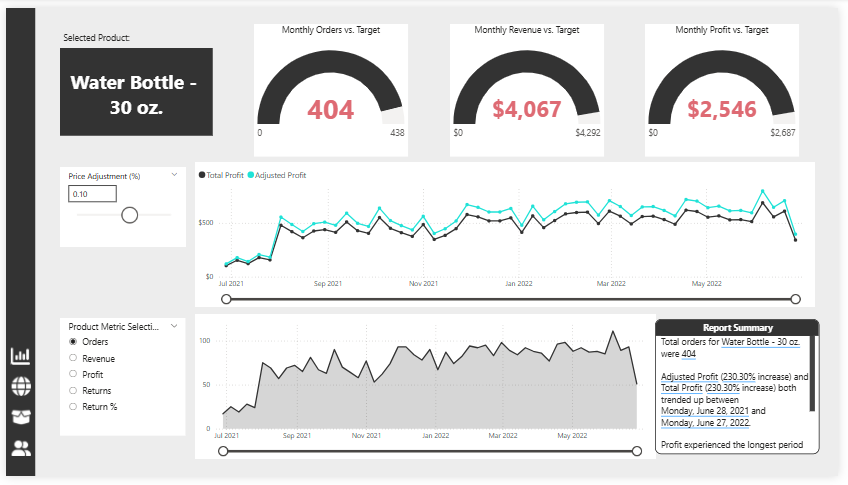

Layout of this report page (visuals, bound fields, positions):
{"tool":"powerbi","page":{"name":"Product Detail","canvas":[1280,720],"ordinal":2},"visuals":[{"type":"shape","box":[0,0,45,720],"z":0},{"type":"actionButton","box":[2.5,516.7,45.6,37.8],"z":0,"group":"g1"},{"type":"gauge","title":"Monthly Orders vs. Target","fields":{"Y":["Measure Table.Total Orders"],"MaxValue":["Measure Table.Order Target"]},"box":[382,25,236.6,204.2],"z":1000},{"type":"actionButton","box":[3.3,563.4,45.6,37.8],"z":1000,"group":"g1"},{"type":"gauge","title":"Monthly Revenue vs. Target","fields":{"Y":["Measure Table.Total Revenue"],"MaxValue":["Measure Table.Revenue Target"]},"box":[683.3,25,236.6,204.2],"z":2000},{"type":"actionButton","box":[3.3,611.1,45.6,37.8],"z":2000,"group":"g1"},{"type":"gauge","title":"Monthly Profit vs. Target","fields":{"Y":["Measure Table.Total Profit"],"MaxValue":["Measure Table.Profit Target"]},"box":[983,25,236.6,204.2],"z":3000},{"type":"actionButton","box":[3.3,657.8,45.6,37.8],"z":3000,"group":"g1"},{"type":"lineChart","title":"Profit Trending","fields":{"Category":["Calendar Lookup.Date Hierarchy.Year","Calendar Lookup.Date Hierarchy.Start of Month","Calendar Lookup.Date Hierarchy.Start of Week","Calendar Lookup.Date Hierarchy.Date"],"Y":["Measure Table.Total Profit","Measure Table.Adjusted Profit"]},"box":[290.5,237.4,952.8,221.5],"z":4000},{"type":"areaChart","title":"Return Trending","fields":{"Y":["Measure Table.Total Orders"],"Category":["Calendar Lookup.Date Hierarchy.Year","Calendar Lookup.Date Hierarchy.Start of Month","Calendar Lookup.Date Hierarchy.Start of Week","Calendar Lookup.Date Hierarchy.Date"]},"box":[290.5,471.3,708.7,221.5],"z":5000},{"type":"card","fields":{"Values":["Min(Product Lookup.ProductName)"]},"box":[83.6,61,235.1,134.5],"z":6000},{"type":"textbox","box":[83.6,32.8,136.8,36.2],"z":7000},{"type":"group","id":"g1","title":"Navigation Buttons","box":[2.5,516.7,46.4,178.9],"z":8000},{"type":"slicer","fields":{"Values":["Price Adjustment (%).Price Adjustment (%)"]},"box":[83.6,245.3,193.3,123.2],"z":9000},{"type":"slicer","fields":{"Values":["Product Metric Selection.Product Metric Selection"]},"box":[83.6,477,193.3,180.8],"z":10000},{"type":"textbox","title":"Report Summary","box":[999.2,478.1,253.2,208],"z":11000}]}

Visuals, with their boxes on the page's 1280x720 design canvas (x1, y1, x2, y2). These are canvas units, not pixel positions in the 848x485 screenshot, which may show the page scaled, cropped or inside an application window:
shape: 0:0:45:720
actionButton: 2:517:48:554
"Monthly Orders vs. Target" gauge: 382:25:619:229
actionButton: 3:563:49:601
"Monthly Revenue vs. Target" gauge: 683:25:920:229
actionButton: 3:611:49:649
"Monthly Profit vs. Target" gauge: 983:25:1220:229
actionButton: 3:658:49:696
"Profit Trending" lineChart: 290:237:1243:459
"Return Trending" areaChart: 290:471:999:693
card - Min(Product Lookup.ProductName): 84:61:319:196
textbox: 84:33:220:69
"Navigation Buttons" group: 2:517:49:696
slicer - Price Adjustment (%).Price Adjustment (%): 84:245:277:368
slicer - Product Metric Selection.Product Metric Selection: 84:477:277:658
"Report Summary" textbox: 999:478:1252:686
